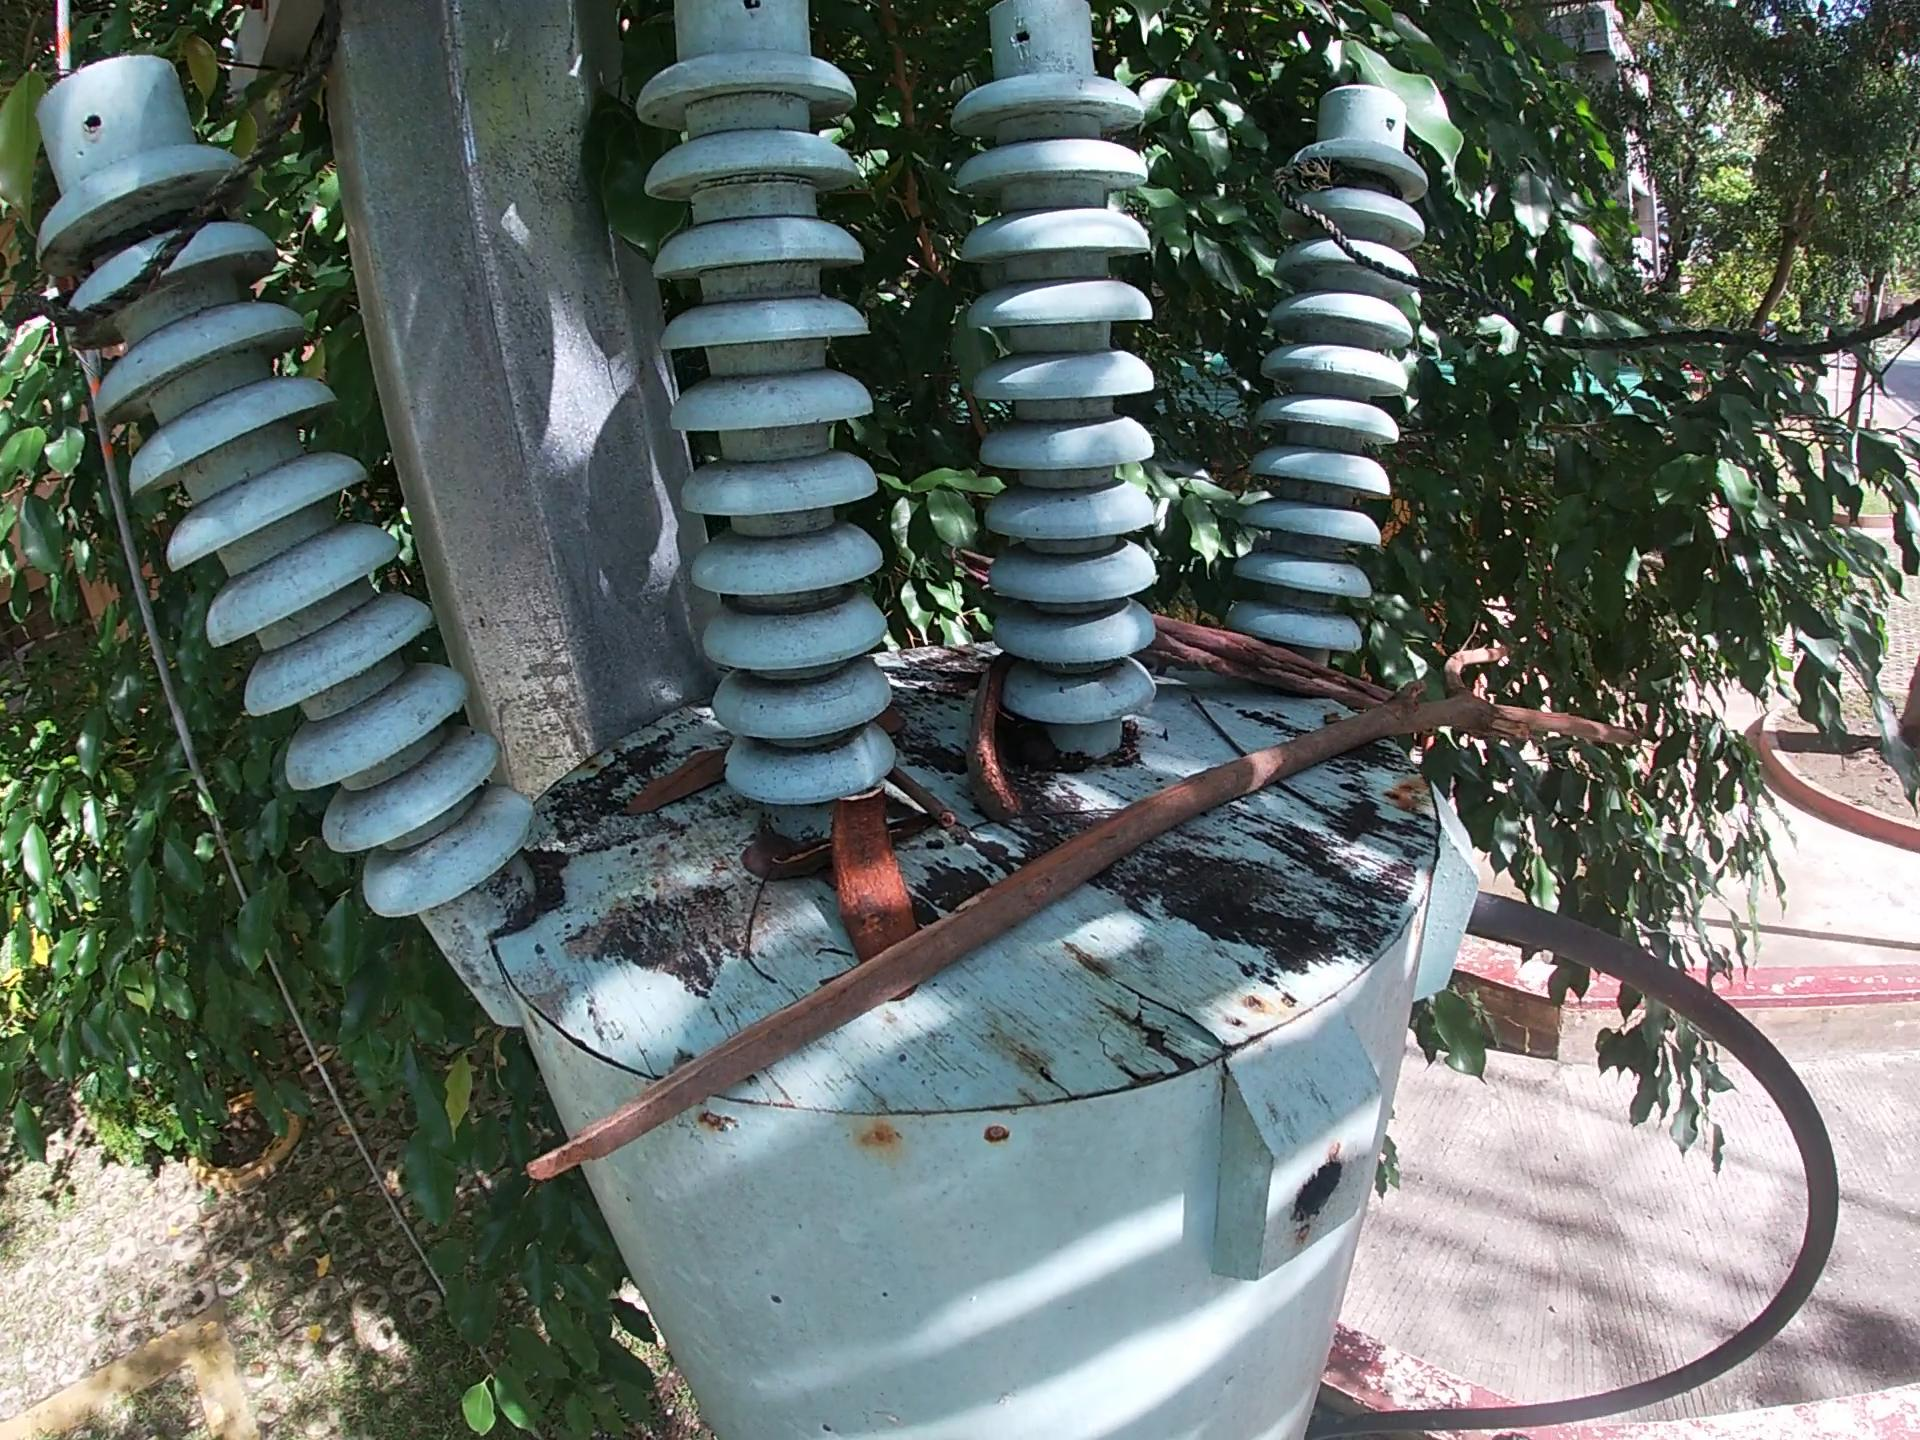leaf: (606, 749, 732, 827), (875, 708, 912, 741)
mahogany fruit: (822, 782, 922, 970), (957, 647, 1034, 830)
tree branch: (509, 638, 1654, 1199), (1135, 610, 1423, 718), (889, 771, 957, 843)
